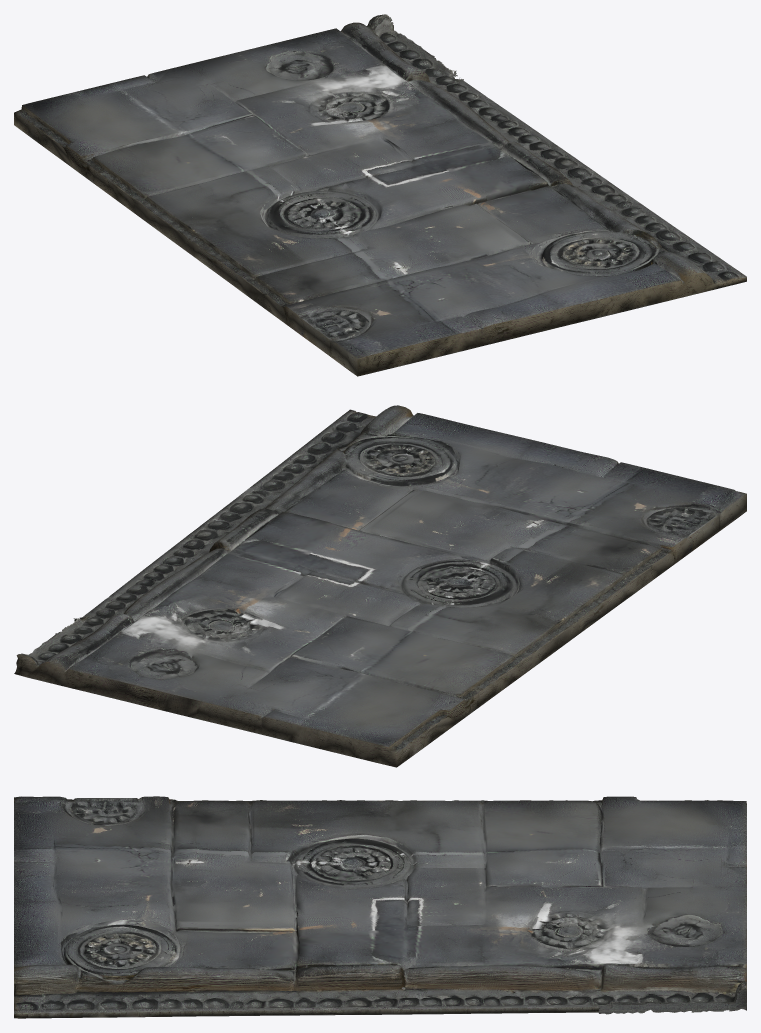
File: Meshy_AI__0421190450_texture.fbx
The picture shows the model from 3 angles, top to bottom: view 1: azimuth 30°, elevation 25°; view 2: azimuth 150°, elevation 25°; view 3: azimuth 270°, elevation 25°; orthographic projection. The views are drawn at different scales.
Parts seen in each view (by area): view 1: Mesh_0; view 2: Mesh_0; view 3: Mesh_0.
Boxes of the visible parts, bbox=[...] form: Mesh_0: bbox=[14, 14, 746, 376]; Mesh_0: bbox=[14, 405, 746, 767]; Mesh_0: bbox=[14, 796, 746, 1018].
Size of the model in its own units: 131 by 7.32 by 200.
1 material, 1 textured.
